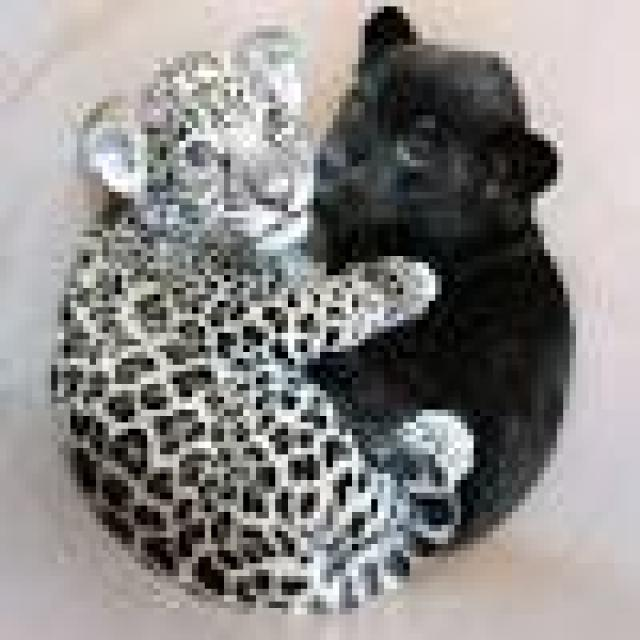Jaguar: (58, 13, 480, 621), (301, 0, 589, 570)
